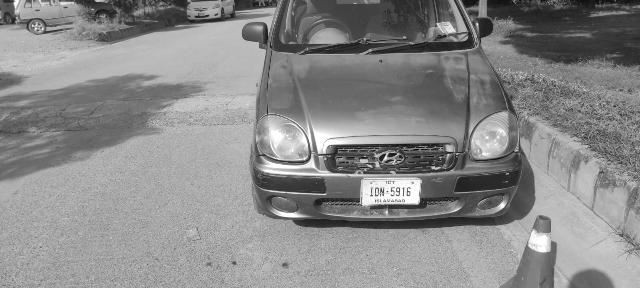Number: (367, 186, 415, 198)
